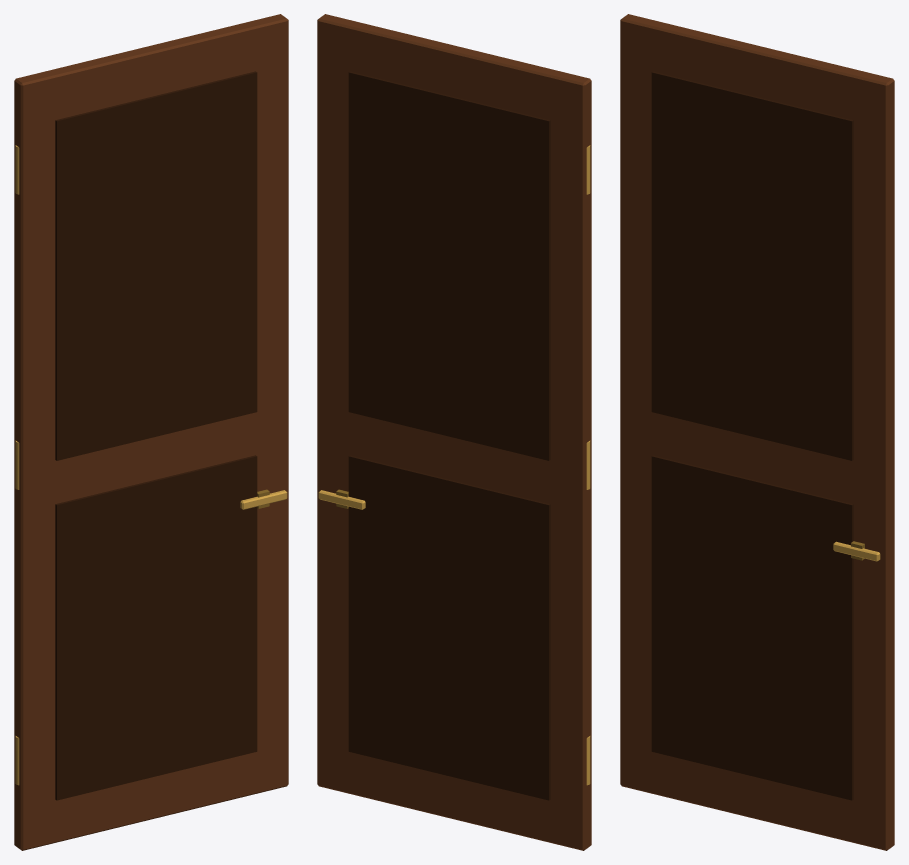
Rendered from door_leaf.glb.
3 views of the same model, side by side, from view 1: azimuth 30°, elevation 25°; view 2: azimuth 150°, elevation 25°; view 3: azimuth 330°, elevation 25° (orthographic).
Visible parts, largest first — view 1: door_leaf; view 2: door_leaf; view 3: door_leaf.
Part boxes in pixels (left/top/right/bottom): door_leaf: left=14, top=14, right=288, bottom=850; door_leaf: left=317, top=14, right=591, bottom=850; door_leaf: left=620, top=14, right=894, bottom=850.
Size of the model in its own units: 0.955 by 2.6 by 0.098.
